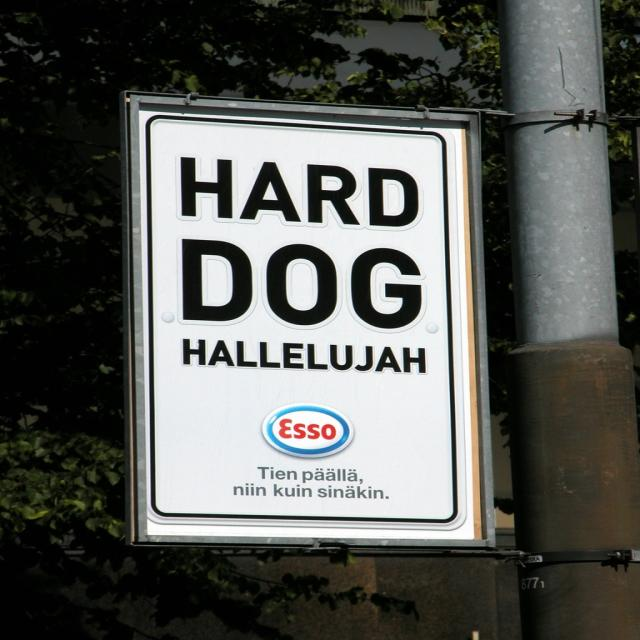esso: (263, 403, 356, 460)
